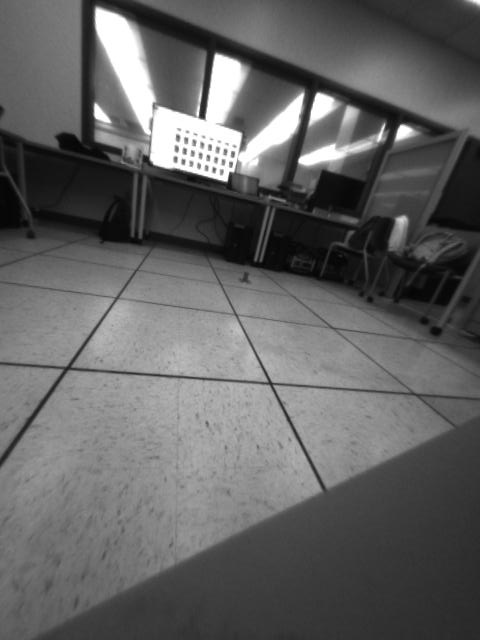X: (237, 271, 252, 285)
